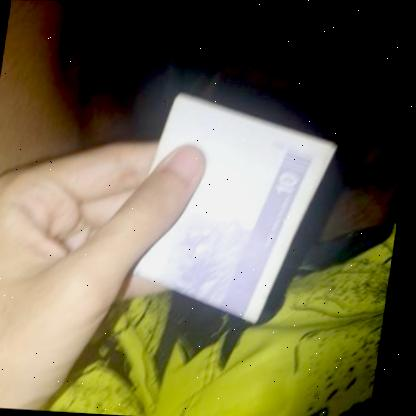vef_back: (121, 89, 345, 328)
